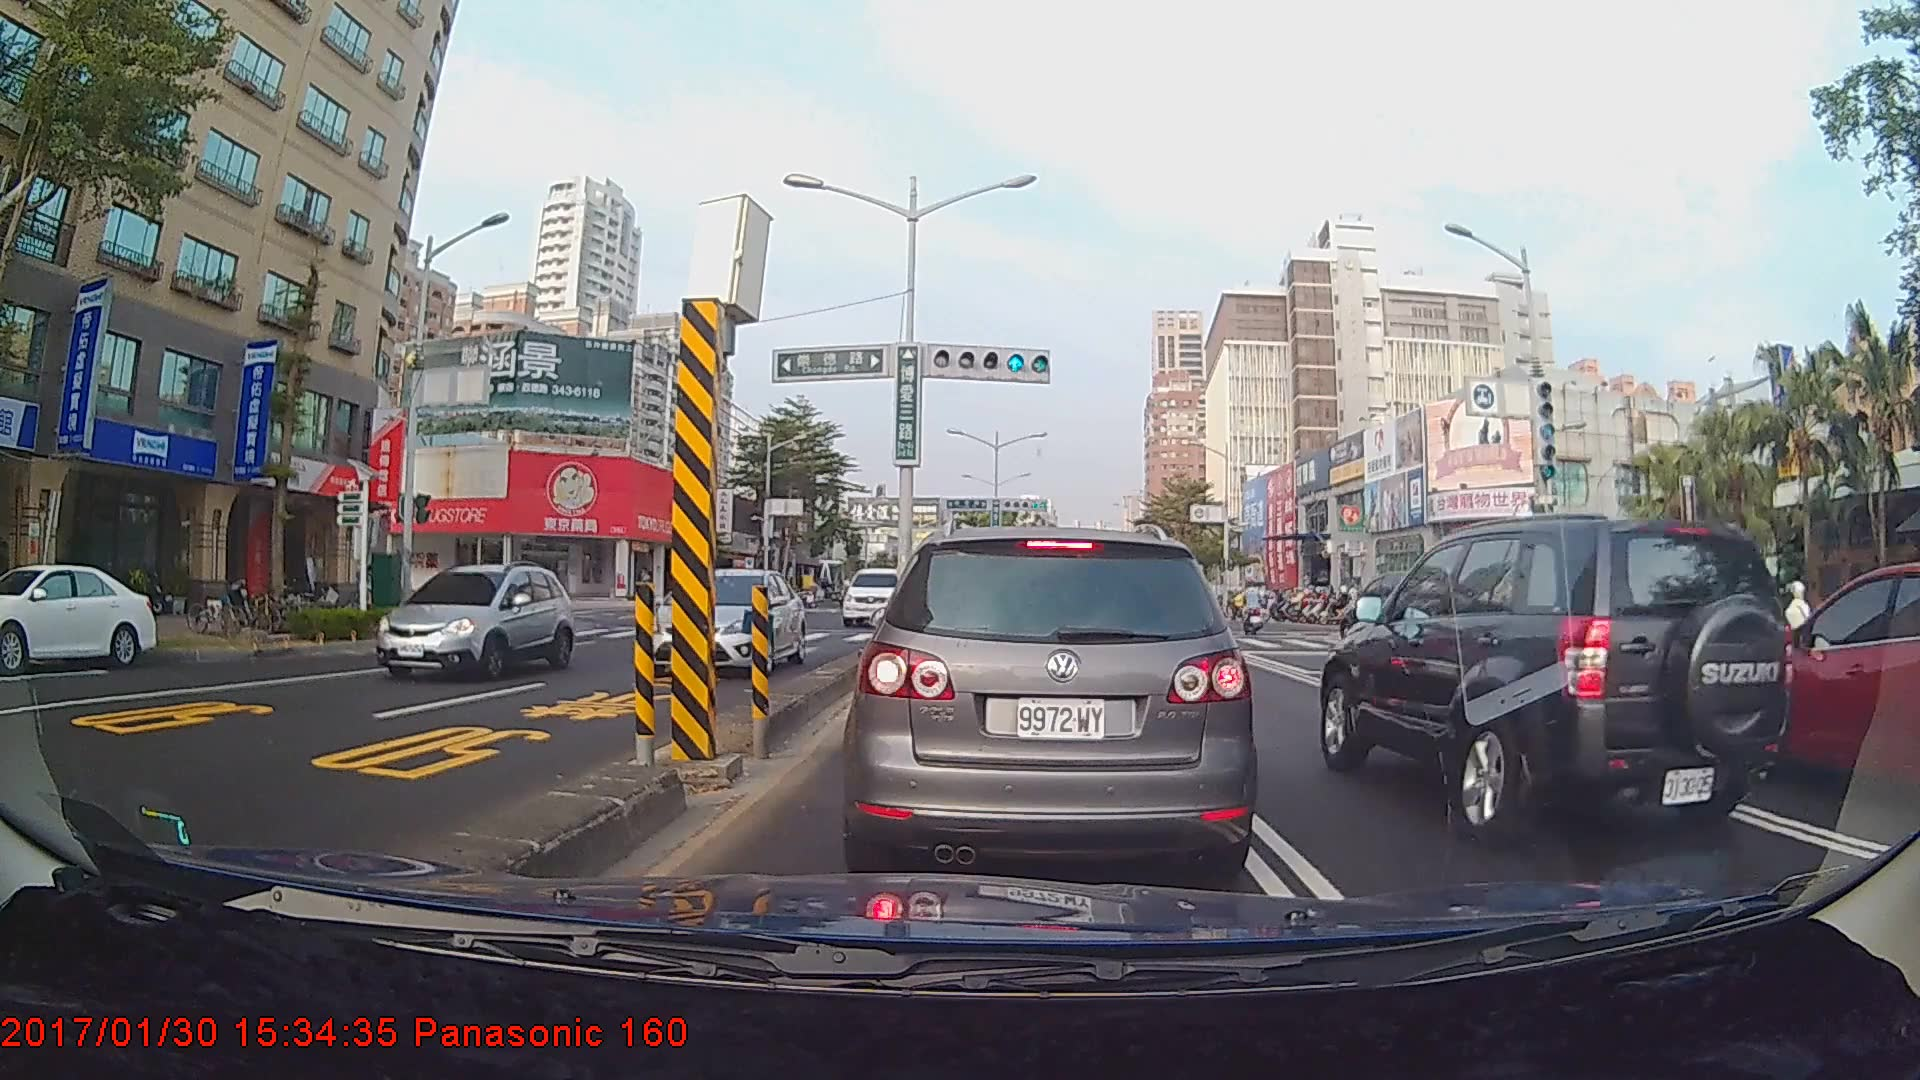rider: (1236, 578, 1271, 636)
vehicle: (1317, 513, 1795, 845), (852, 524, 1249, 880), (1672, 558, 1920, 827), (374, 559, 576, 681), (637, 566, 807, 677), (0, 561, 158, 671), (1333, 568, 1482, 660), (839, 565, 911, 627)
